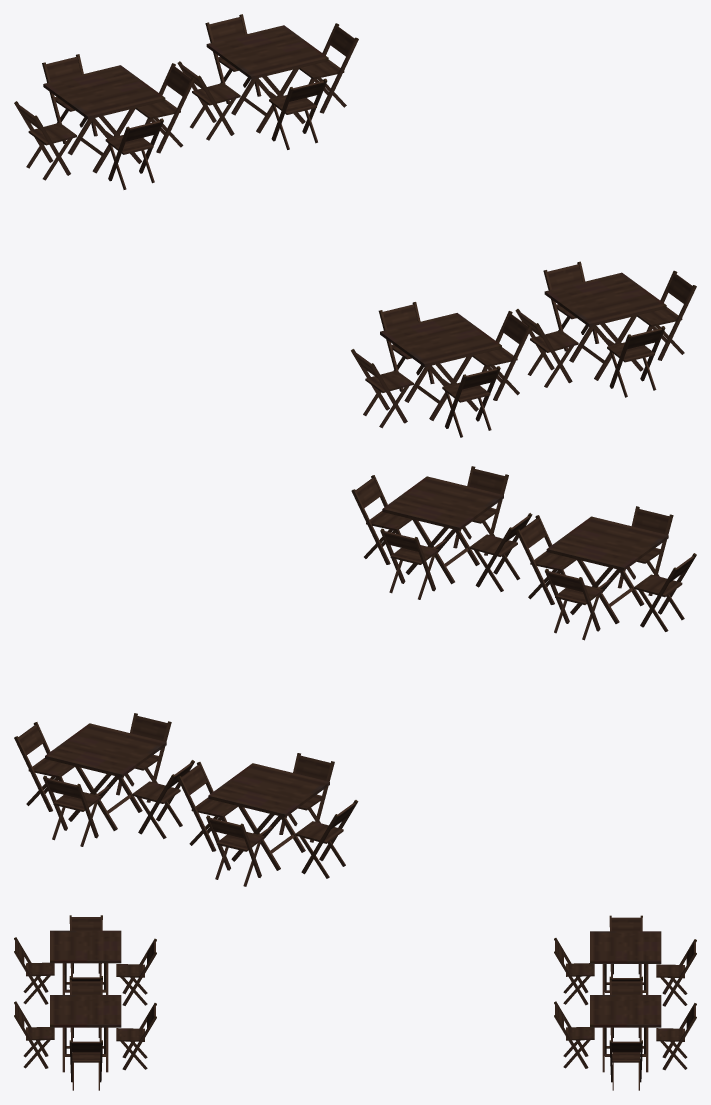
The model's file is Pizza.fbx.
The picture shows the model from 3 angles, top to bottom: view 1: azimuth 30°, elevation 25°; view 2: azimuth 150°, elevation 25°; view 3: azimuth 270°, elevation 25°; orthographic projection. The views are drawn at different scales.
Parts seen in each view (by area): view 1: Pizza; view 2: Pizza; view 3: Pizza.
Boxes of the visible parts, bbox=[...] form: Pizza: bbox=[14, 14, 696, 437]; Pizza: bbox=[14, 466, 696, 886]; Pizza: bbox=[14, 915, 696, 1090].
Bounding box in the file's own units: 6.31 × 1.27 × 14.36.
